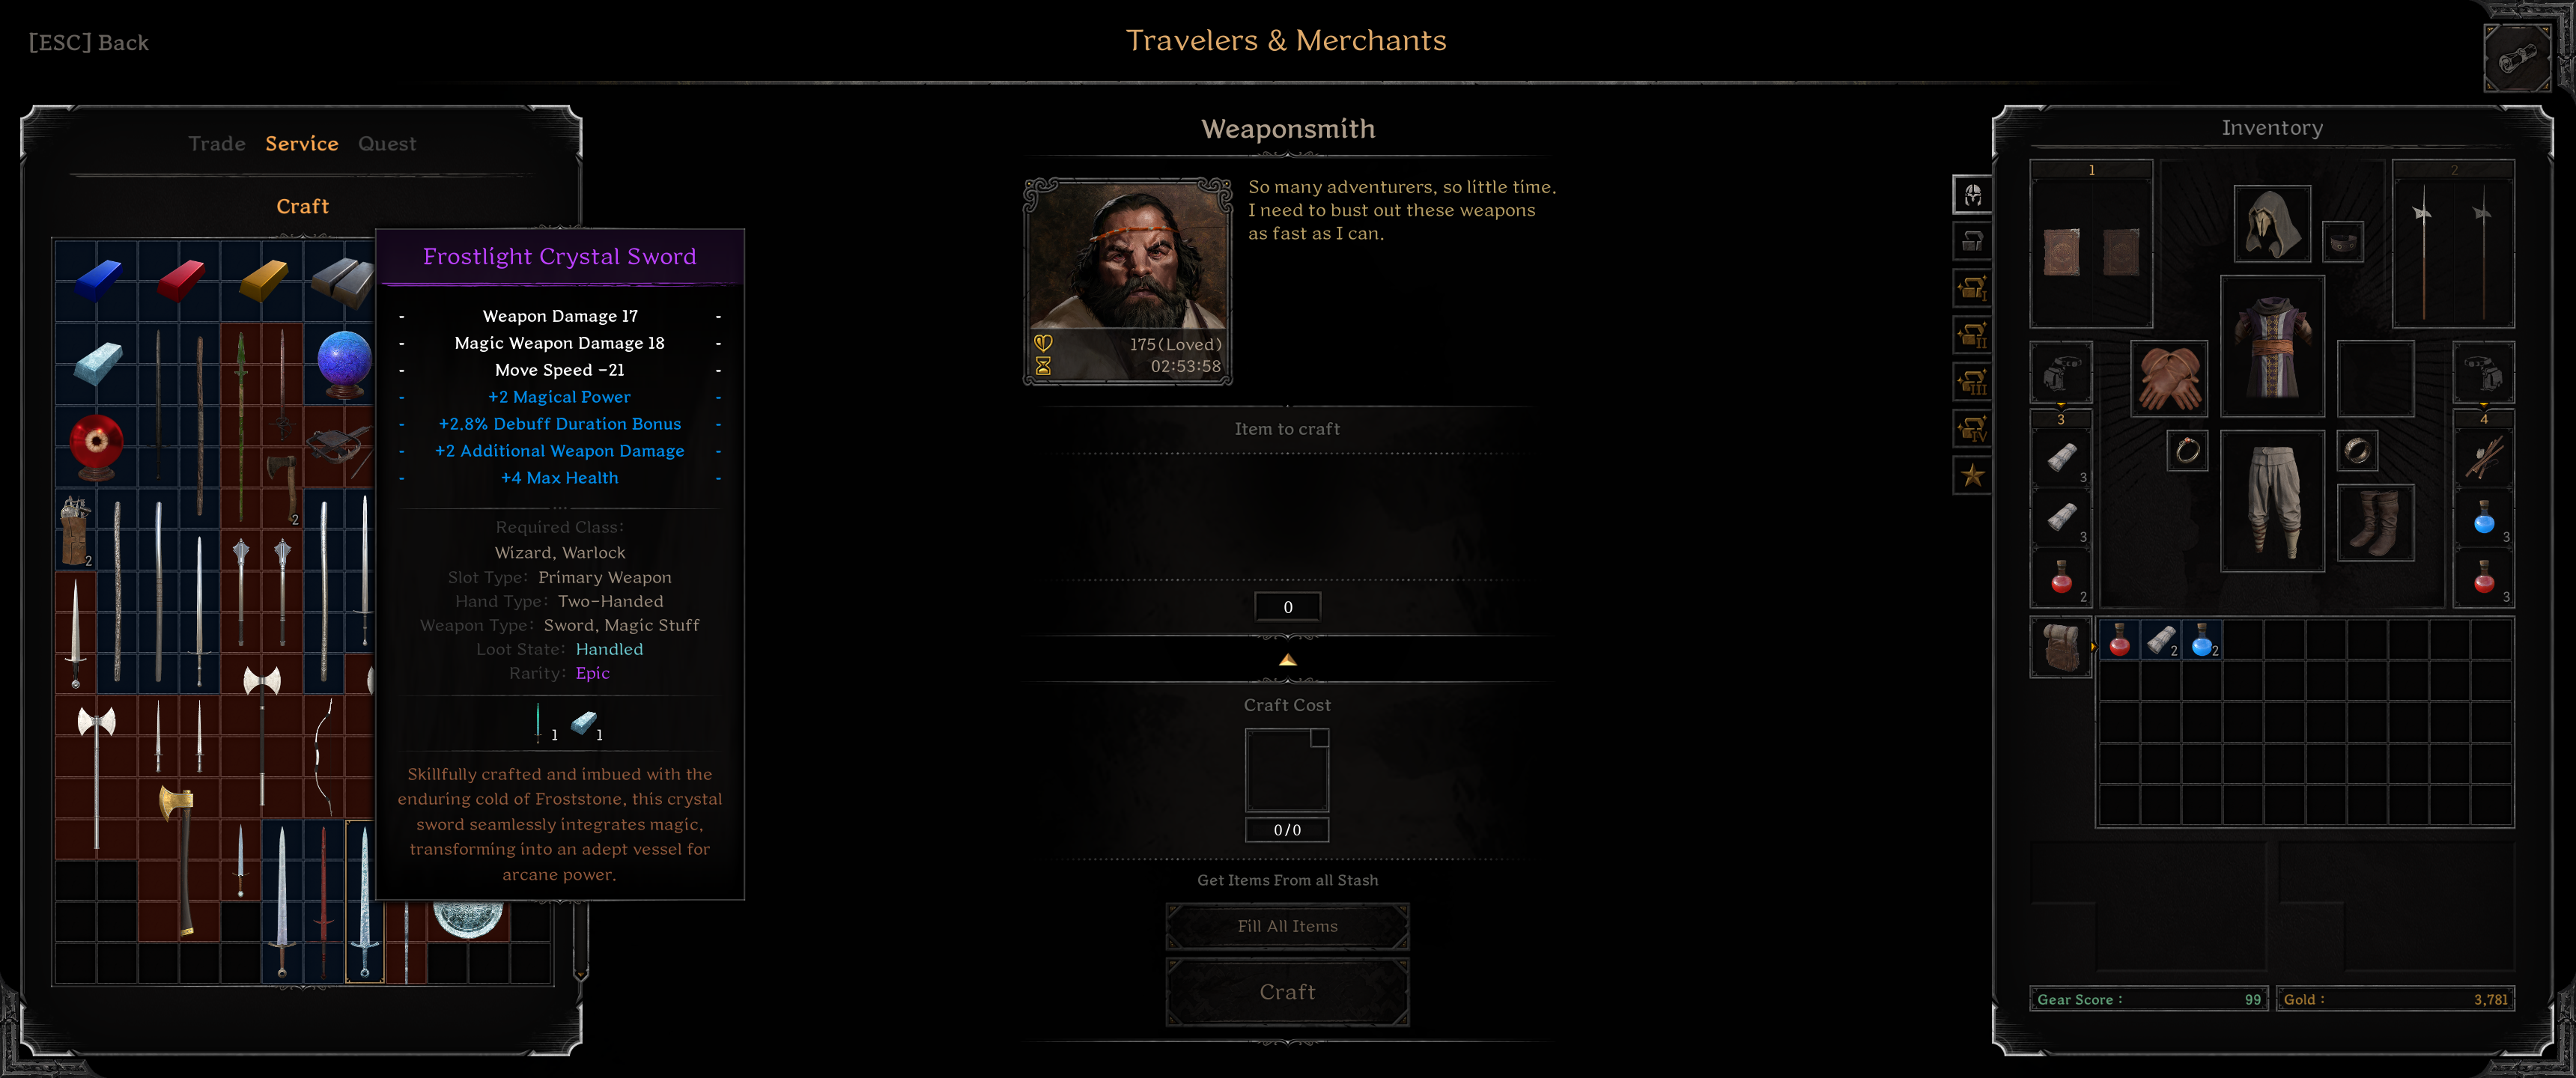Tooltip: (375, 227, 746, 902)
